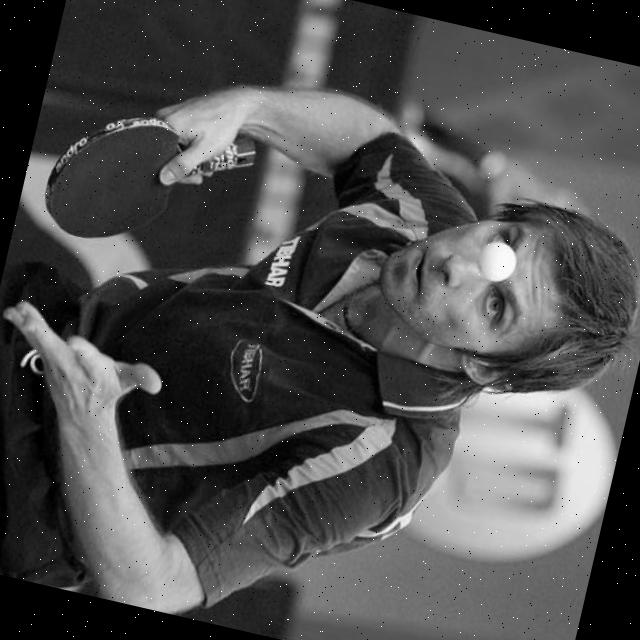ping-pong-ball: (472, 238, 520, 286)
